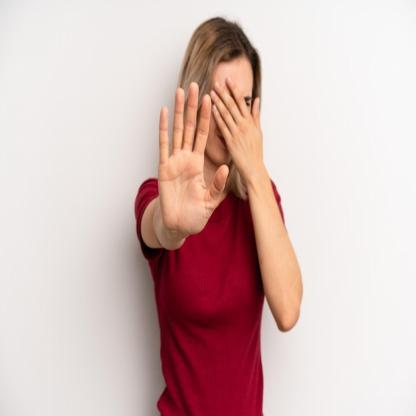stop: (156, 80, 231, 241)
